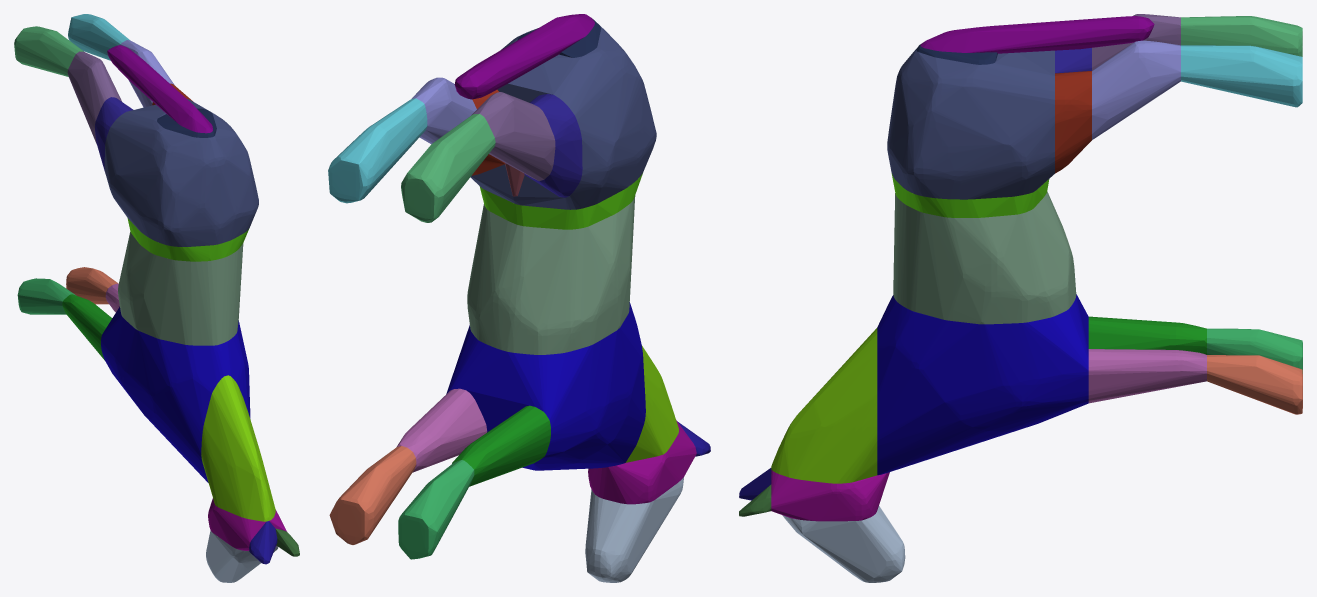
Rendered from horse_coacd.obj.
The picture shows the model from 3 angles, left to right: view 1: azimuth 30°, elevation 25°; view 2: azimuth 150°, elevation 25°; view 3: azimuth 270°, elevation 25°; orthographic projection. The views are drawn at different scales.
Visible parts, largest first — view 1: geometry_16, geometry_5, geometry_0, geometry_4, geometry_11, geometry_3, geometry_1, geometry_2, geometry_17, geometry_14, geometry_6, geometry_10 (+7 smaller); view 2: geometry_0, geometry_5, geometry_16, geometry_6, geometry_3, geometry_2, geometry_11, geometry_1, geometry_9, geometry_8, geometry_14, geometry_7 (+6 smaller); view 3: geometry_5, geometry_16, geometry_0, geometry_4, geometry_11, geometry_2, geometry_12, geometry_7, geometry_6, geometry_14, geometry_9, geometry_3 (+7 smaller).
Boxes of the visible parts, box(x1,y1,x2,y2) form: geometry_16: box(104, 99, 258, 246); geometry_5: box(101, 306, 250, 482); geometry_0: box(118, 232, 243, 345); geometry_4: box(201, 375, 275, 521); geometry_11: box(107, 45, 212, 133); geometry_3: box(14, 26, 83, 76); geometry_1: box(67, 51, 121, 144); geometry_2: box(68, 14, 129, 60); geometry_17: box(127, 218, 249, 261); geometry_14: box(208, 498, 286, 550); geometry_6: box(206, 530, 278, 582); geometry_10: box(17, 278, 76, 314); geometry_0: box(467, 195, 635, 354); geometry_5: box(446, 302, 645, 470); geometry_16: box(470, 26, 656, 209); geometry_6: box(585, 477, 683, 582); geometry_3: box(401, 113, 495, 222); geometry_2: box(328, 98, 427, 203); geometry_11: box(454, 14, 594, 99); geometry_1: box(472, 92, 555, 180); geometry_9: box(329, 446, 416, 544); geometry_8: box(452, 405, 550, 486); geometry_14: box(588, 420, 696, 504); geometry_7: box(397, 388, 487, 472); geometry_5: box(877, 294, 1088, 475); geometry_16: box(887, 48, 1054, 199); geometry_0: box(893, 191, 1076, 324); geometry_4: box(771, 328, 877, 483); geometry_11: box(920, 16, 1154, 53); geometry_2: box(1181, 45, 1302, 107); geometry_12: box(1092, 40, 1180, 139); geometry_7: box(1088, 349, 1206, 403); geometry_6: box(782, 506, 905, 582); geometry_14: box(771, 470, 889, 521); geometry_9: box(1207, 355, 1302, 414); geometry_3: box(1181, 16, 1302, 56).
Bounding box in the file's own units: 7.09 × 27.13 × 24.64.
